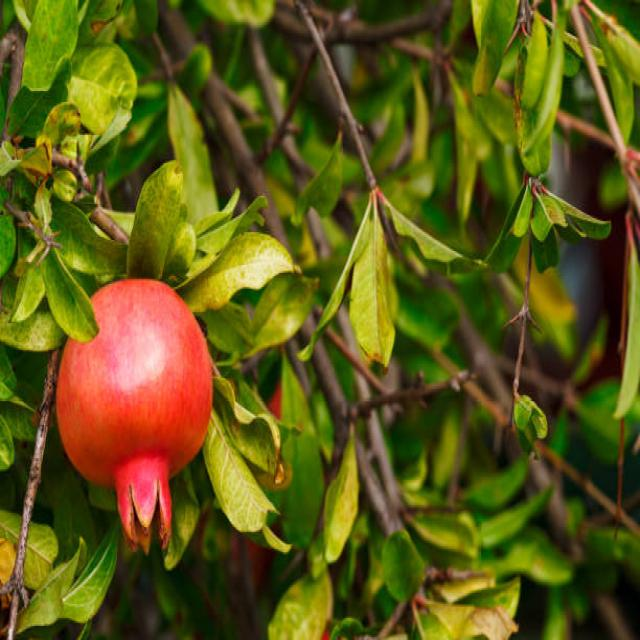Ripe: (57, 279, 213, 561)
